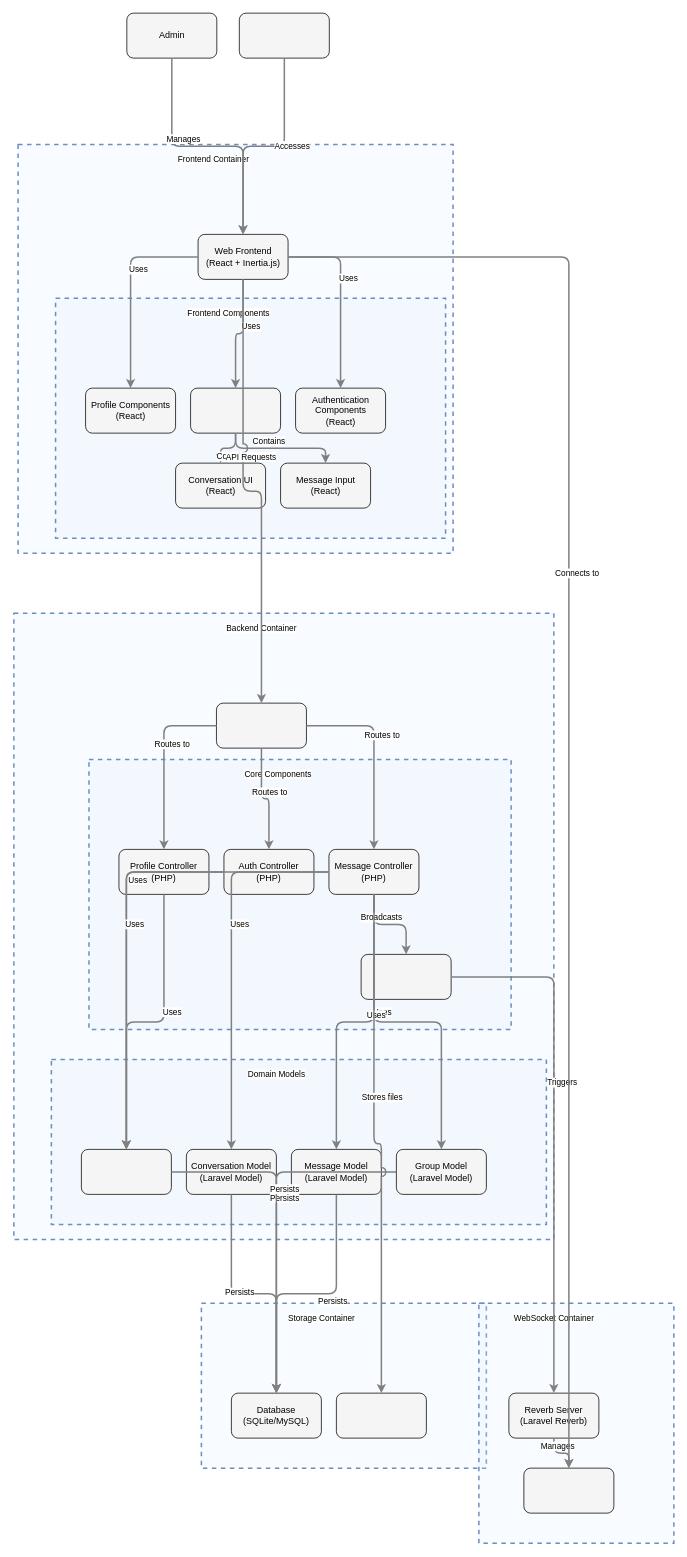
This 687x1557 diagram has some shape labels left out. Each missing label, with the box of its shape:
Chat Components (React): (190, 387, 281, 433)
Event Handler (Laravel Events): (360, 954, 451, 999)
File Storage (Laravel Storage): (336, 1392, 426, 1438)
Socket Handler (WebSocket): (523, 1467, 614, 1513)
User: (239, 12, 329, 58)
User Model (Laravel Model): (81, 1149, 171, 1194)
Web Server (Laravel): (216, 702, 306, 748)
